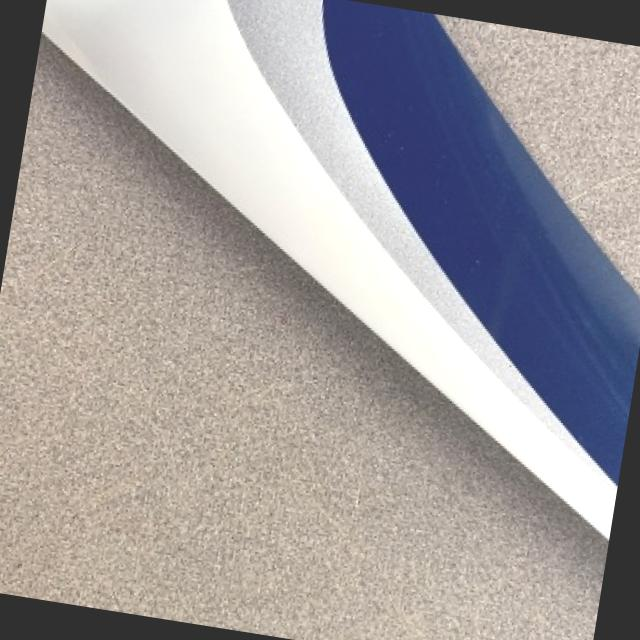healthy: (0, 34, 609, 640), (44, 0, 617, 532)
